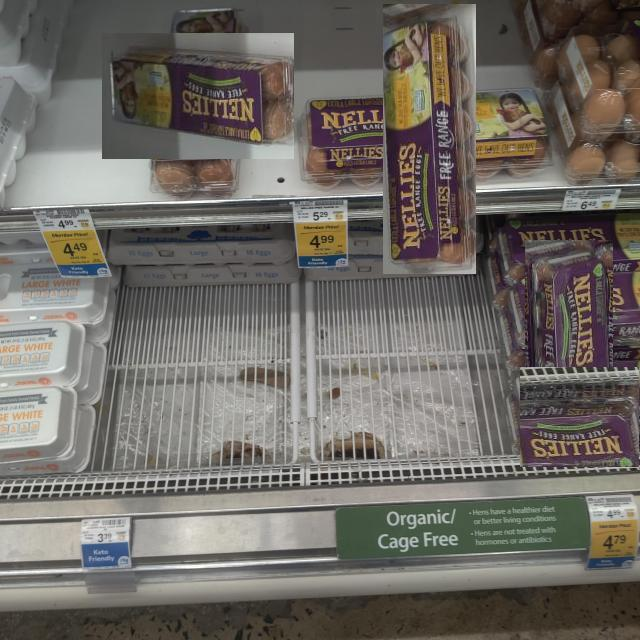Eggs: (384, 4, 476, 274), (102, 33, 294, 159), (524, 241, 613, 382), (520, 367, 639, 467)
